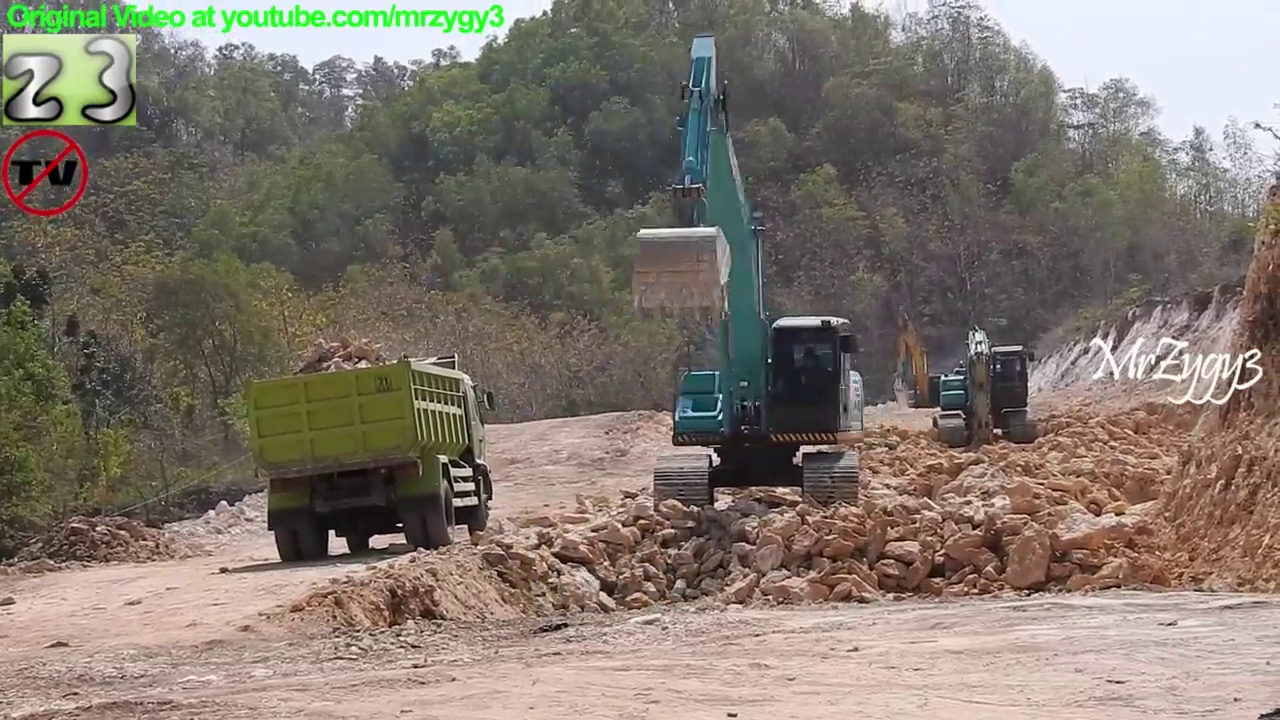excavator: (623, 30, 875, 523), (886, 298, 958, 417)
excavator breaker: (929, 316, 1044, 457)
truck: (241, 348, 503, 567)
